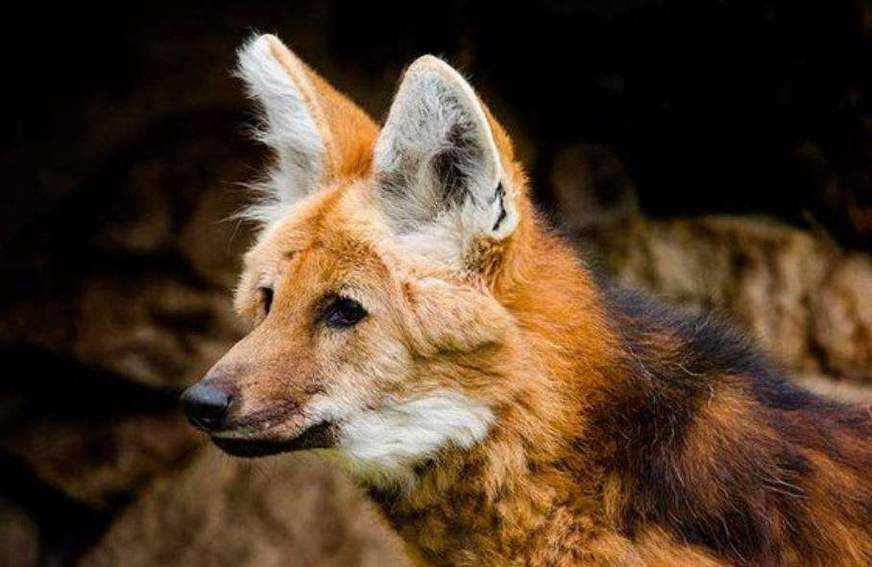LoboGuara: (167, 20, 856, 560)
